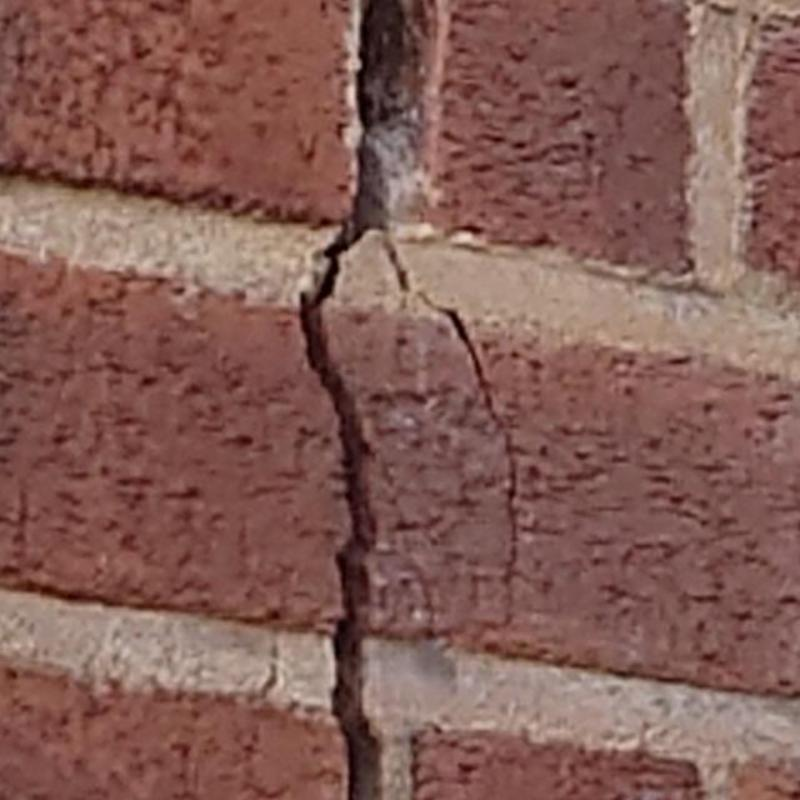pothole: (300, 0, 427, 799), (416, 291, 519, 584)
